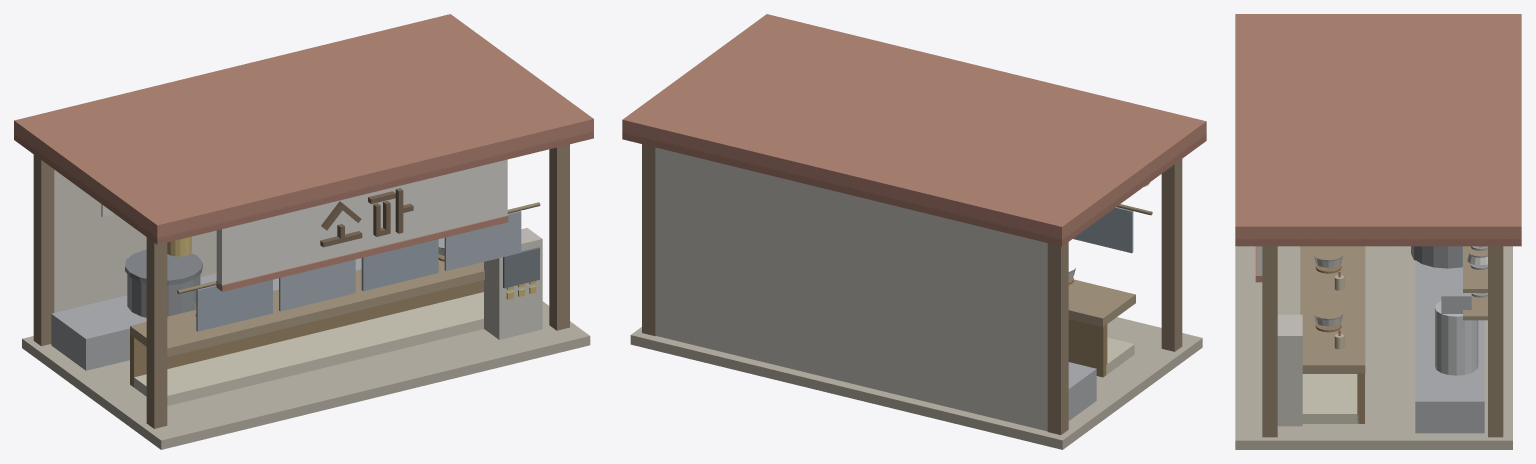
File: soba.glb
3 renders of one model, left to right at view 1: azimuth 30°, elevation 25°; view 2: azimuth 150°, elevation 25°; view 3: azimuth 270°, elevation 25°, orthographic.
Visible parts, largest first — view 1: part_14, part_15, part_24, part_03, part_20, part_22, part_11, part_07, part_09, part_13, part_05, part_10 (+5 smaller); view 2: part_22, part_14, part_15, part_03, part_10, part_11, part_05, part_07, part_13, part_20; view 3: part_14, part_15, part_11, part_13, part_03, part_18, part_20, part_16, part_10, part_04, part_23, part_05 (+2 smaller).
Part boxes in pixels (x1=…): part_14: x1=14, y1=14, x2=593, y2=291; part_15: x1=22, y1=301, x2=590, y2=449; part_24: x1=216, y1=159, x2=507, y2=284; part_03: x1=33, y1=144, x2=569, y2=428; part_20: x1=134, y1=292, x2=483, y2=405; part_22: x1=54, y1=170, x2=216, y2=312; part_11: x1=130, y1=260, x2=484, y2=356; part_07: x1=196, y1=239, x2=438, y2=331; part_09: x1=279, y1=211, x2=521, y2=311; part_13: x1=51, y1=238, x2=444, y2=370; part_05: x1=130, y1=280, x2=483, y2=387; part_10: x1=14, y1=131, x2=593, y2=244; part_22: x1=656, y1=147, x2=1047, y2=431; part_14: x1=622, y1=14, x2=1206, y2=240; part_15: x1=630, y1=317, x2=1202, y2=449; part_03: x1=642, y1=144, x2=1182, y2=434; part_10: x1=622, y1=132, x2=1206, y2=246; part_11: x1=1068, y1=279, x2=1135, y2=327; part_05: x1=1068, y1=319, x2=1107, y2=377; part_07: x1=1073, y1=207, x2=1133, y2=253; part_13: x1=1068, y1=362, x2=1096, y2=420; part_20: x1=1106, y1=337, x2=1134, y2=374; part_14: x1=1235, y1=14, x2=1521, y2=335; part_15: x1=1235, y1=246, x2=1512, y2=449; part_11: x1=1300, y1=246, x2=1487, y2=373; part_13: x1=1415, y1=260, x2=1484, y2=433; part_03: x1=1262, y1=246, x2=1503, y2=437; part_18: x1=1277, y1=314, x2=1302, y2=426; part_20: x1=1302, y1=374, x2=1358, y2=423; part_16: x1=1435, y1=301, x2=1478, y2=375; part_10: x1=1235, y1=239, x2=1521, y2=246; part_04: x1=1411, y1=246, x2=1462, y2=268; part_23: x1=1314, y1=246, x2=1487, y2=327; part_05: x1=1357, y1=373, x2=1364, y2=423.
Size of the model in its own units: 11.6 by 5.73 by 6.6.
